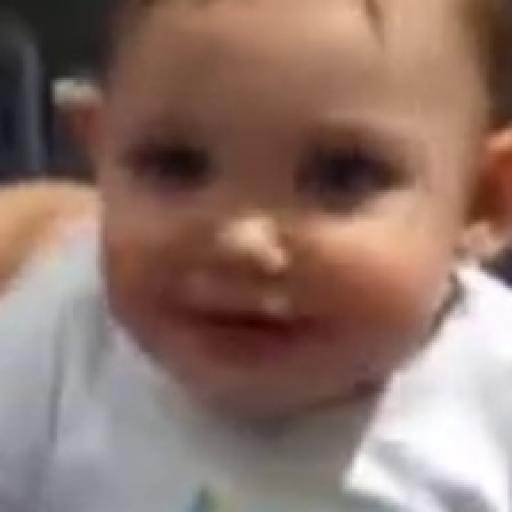Autism: (78, 24, 511, 455)
